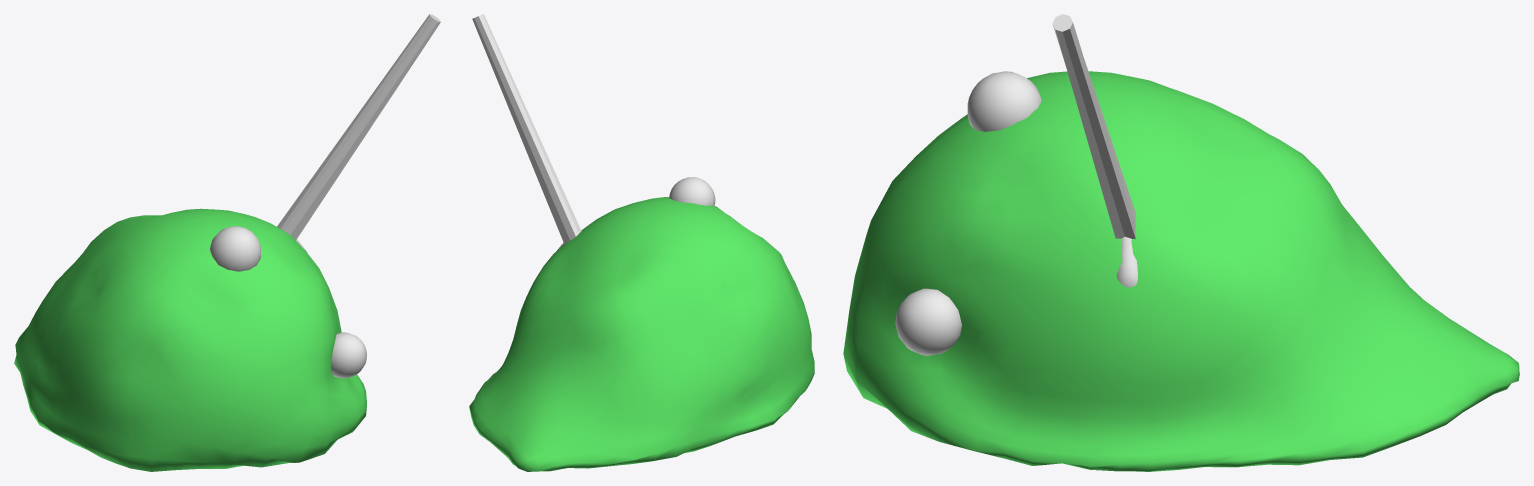
Rendered from slime.fbx.
3 renders of one model, left to right at view 1: azimuth 30°, elevation 25°; view 2: azimuth 150°, elevation 25°; view 3: azimuth 270°, elevation 25°, orthographic. The views are drawn at different scales.
Visible parts, largest first — view 1: slime_body, pitchfork, eye2, eye; view 2: slime_body, pitchfork, eye2; view 3: slime_body, pitchfork, eye, eye2.
Boxes of the visible parts, x1,y1,x2,y2 form: slime_body: [14, 208, 366, 471]; pitchfork: [277, 14, 440, 252]; eye2: [209, 226, 260, 271]; eye: [331, 332, 366, 378]; slime_body: [469, 197, 814, 471]; pitchfork: [472, 14, 581, 251]; eye2: [669, 177, 715, 206]; slime_body: [843, 71, 1519, 471]; pitchfork: [1052, 14, 1137, 287]; eye: [895, 288, 961, 355]; eye2: [967, 71, 1041, 131].
Size of the model in its own units: 2.68 by 2.41 by 2.9.
